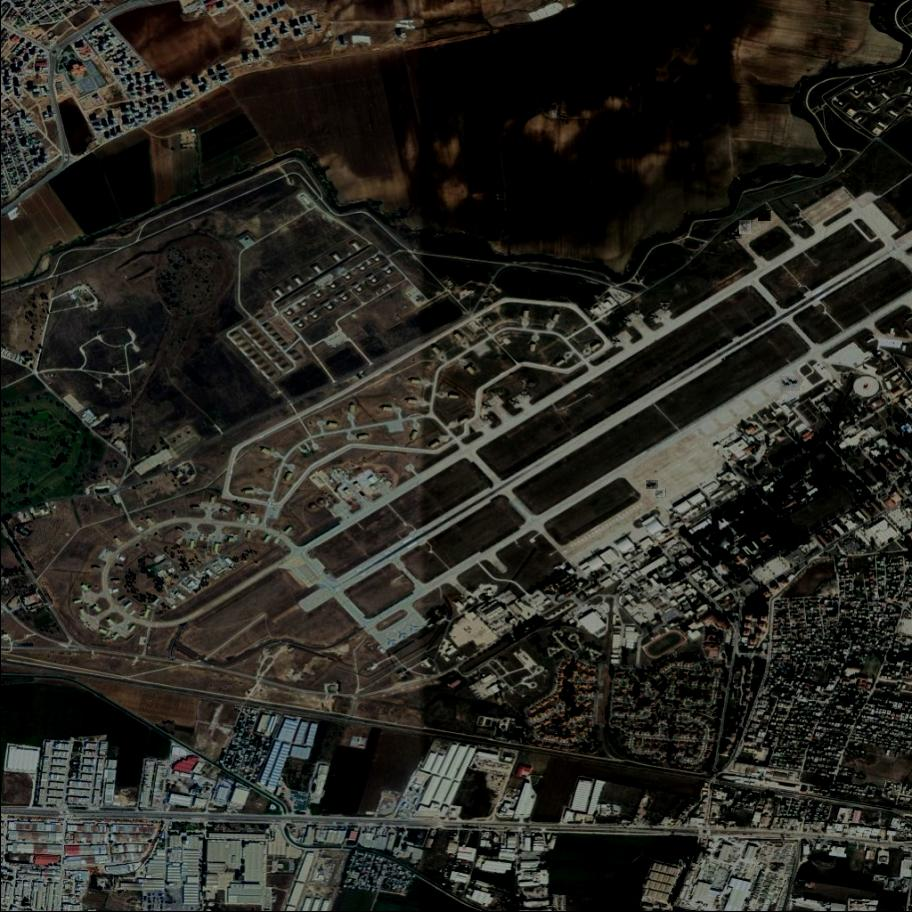plane: (780, 376, 800, 392), (739, 220, 752, 235), (730, 227, 743, 241), (758, 210, 772, 222), (654, 488, 666, 499), (646, 480, 658, 490)
